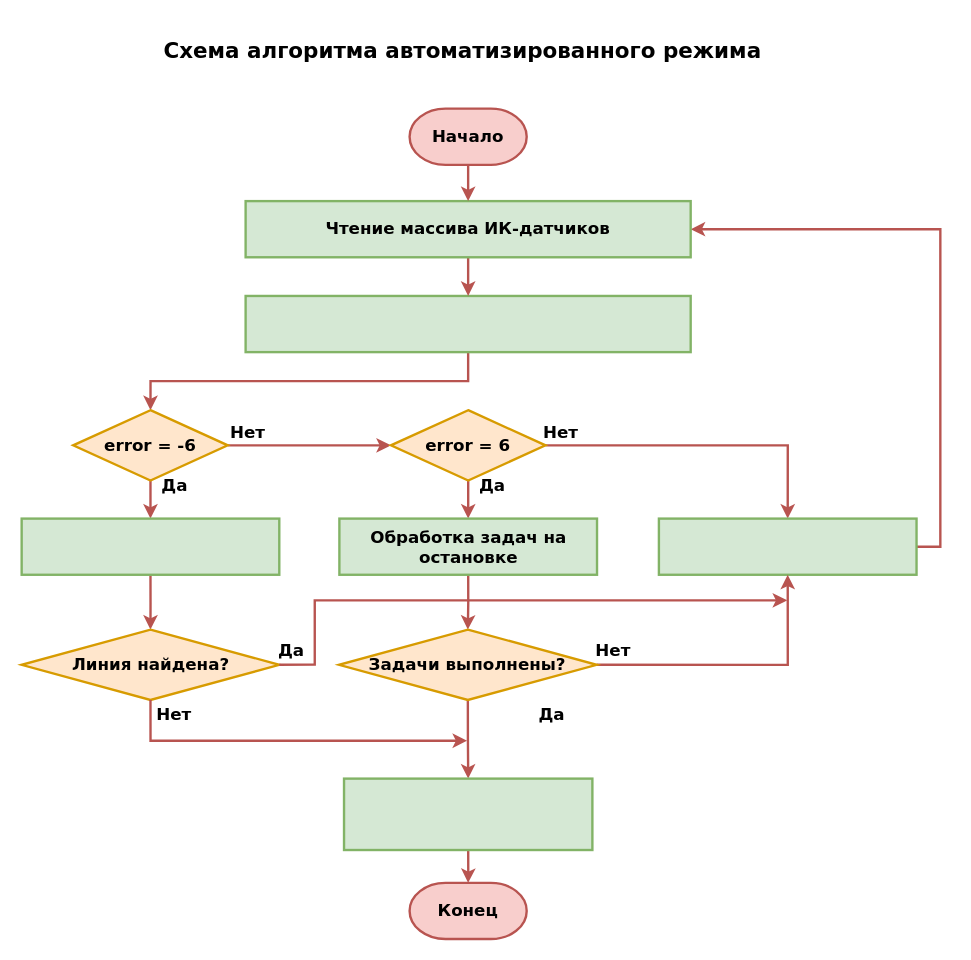
This 971x960 diagram has some shape labels left out. Each missing label, with the centre of its shape:
"Движение робота по линии" belongs at (x=787, y=546).
"Движение робота по поиску линии" belongs at (x=150, y=546).
"Расчет ошибки положения робота относительно линии (error = -6...6)" belongs at (x=467, y=323).
"Сообщение на дисплей" belongs at (x=467, y=814).
